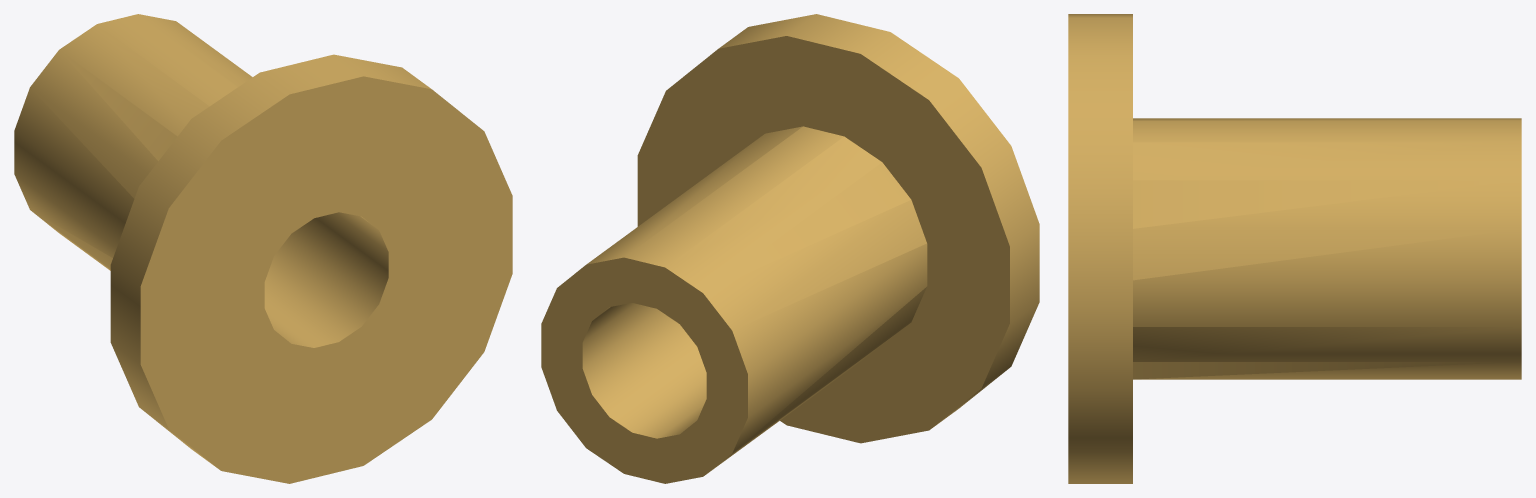
The picture shows the model from 3 angles, left to right: view 1: azimuth 30°, elevation 25°; view 2: azimuth 150°, elevation 25°; view 3: azimuth 270°, elevation 25°; orthographic projection. The views are drawn at different scales.
Parts seen in each view (by area): view 1: object; view 2: object; view 3: object.
Part boxes in pixels (x1,y1,x2,y2): object: [14, 14, 512, 483]; object: [541, 14, 1039, 483]; object: [1068, 14, 1521, 483].
Bounding box in the file's own units: 0.036 × 0.036 × 0.035.
